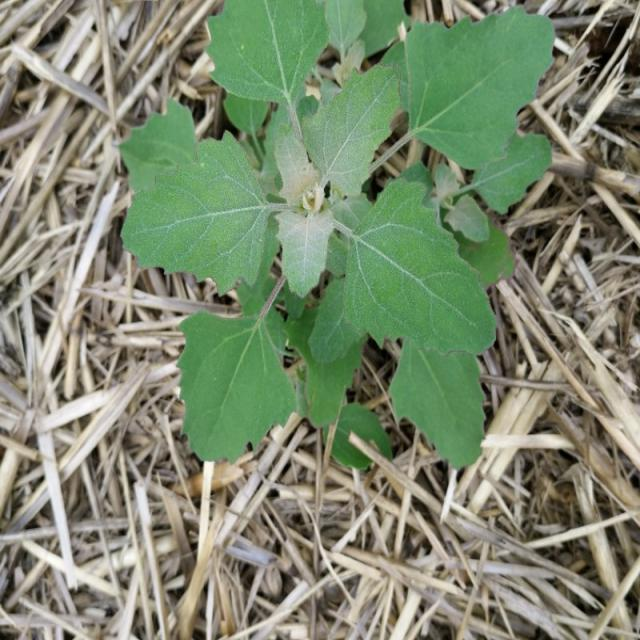ca: (117, 0, 555, 472)
